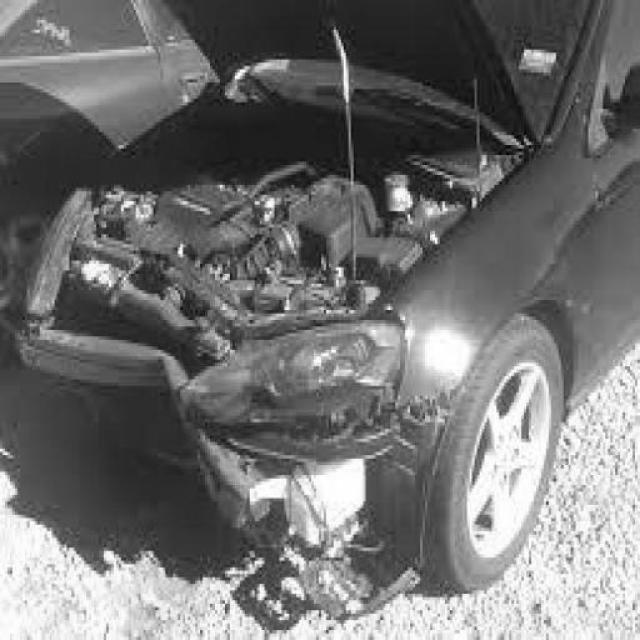crush: (22, 186, 464, 619)
